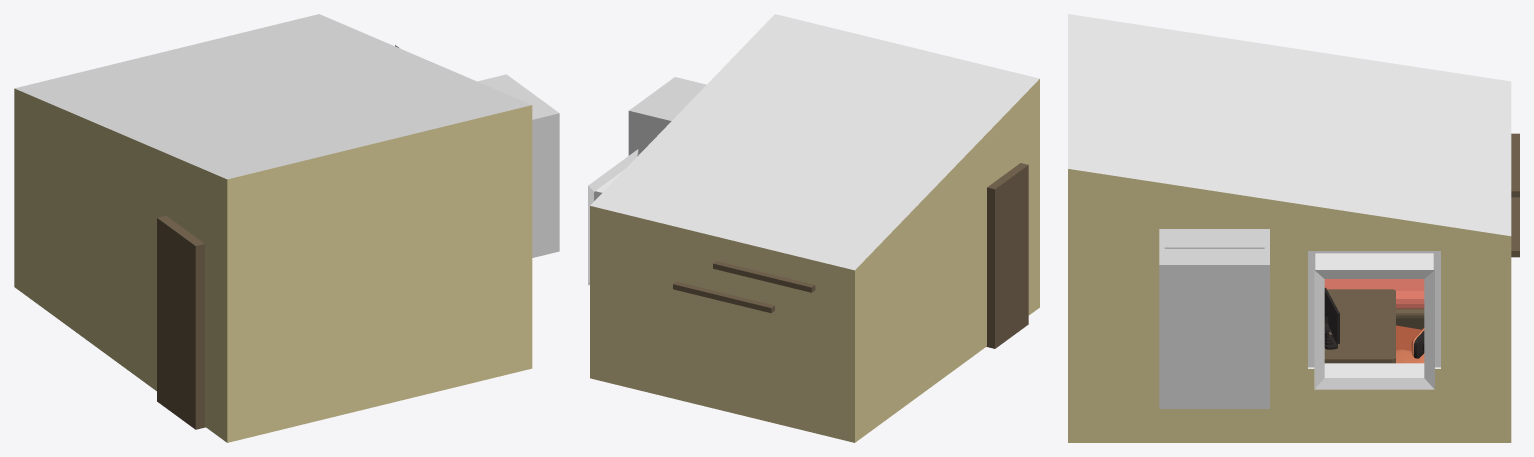
File: room.fbx
3 renders of one model, left to right at view 1: azimuth 30°, elevation 25°; view 2: azimuth 150°, elevation 25°; view 3: azimuth 270°, elevation 25°, orthographic. The views are drawn at different scales.
Visible parts, largest first — view 1: Plane, Cube.010, Cube.011; view 2: Plane, Cube.010, Cube.011, Cube.003, Cube.004; view 3: Plane, Cube.011, Cube.002, Cube, Cube.012, Cube.001, Cube.003, Cube.004, Plane.001.
Part boxes in pixels (x1=…): Plane: x1=14, y1=14, x2=532, y2=442; Cube.010: x1=157, y1=215, x2=205, y2=429; Cube.011: x1=477, y1=74, x2=559, y2=257; Plane: x1=588, y1=14, x2=1039, y2=442; Cube.010: x1=986, y1=163, x2=1028, y2=348; Cube.011: x1=628, y1=77, x2=706, y2=155; Cube.003: x1=713, y1=261, x2=815, y2=292; Cube.004: x1=673, y1=281, x2=774, y2=313; Plane: x1=1068, y1=14, x2=1511, y2=442; Cube.011: x1=1159, y1=229, x2=1269, y2=408; Cube.002: x1=1324, y1=289, x2=1395, y2=363; Cube: x1=1324, y1=279, x2=1424, y2=318; Cube.012: x1=1324, y1=287, x2=1339, y2=349; Cube.001: x1=1396, y1=327, x2=1424, y2=363; Cube.003: x1=1511, y1=133, x2=1519, y2=197; Cube.004: x1=1511, y1=197, x2=1519, y2=257; Plane.001: x1=1396, y1=325, x2=1421, y2=350.
Size of the model in its own units: 506 by 331 by 494.
